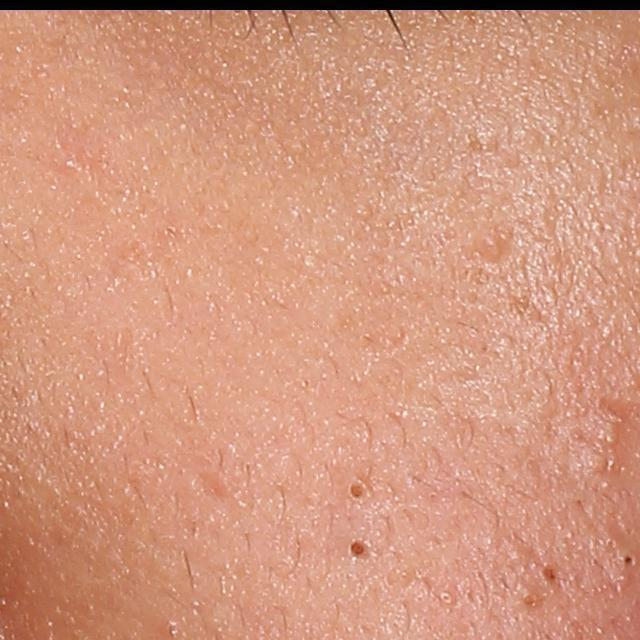atrophic_scar: (194, 468, 229, 505)
comedo: (471, 228, 515, 265), (596, 404, 624, 451), (346, 535, 371, 563), (516, 589, 543, 613), (347, 478, 367, 502), (618, 550, 637, 570), (437, 589, 453, 606)
